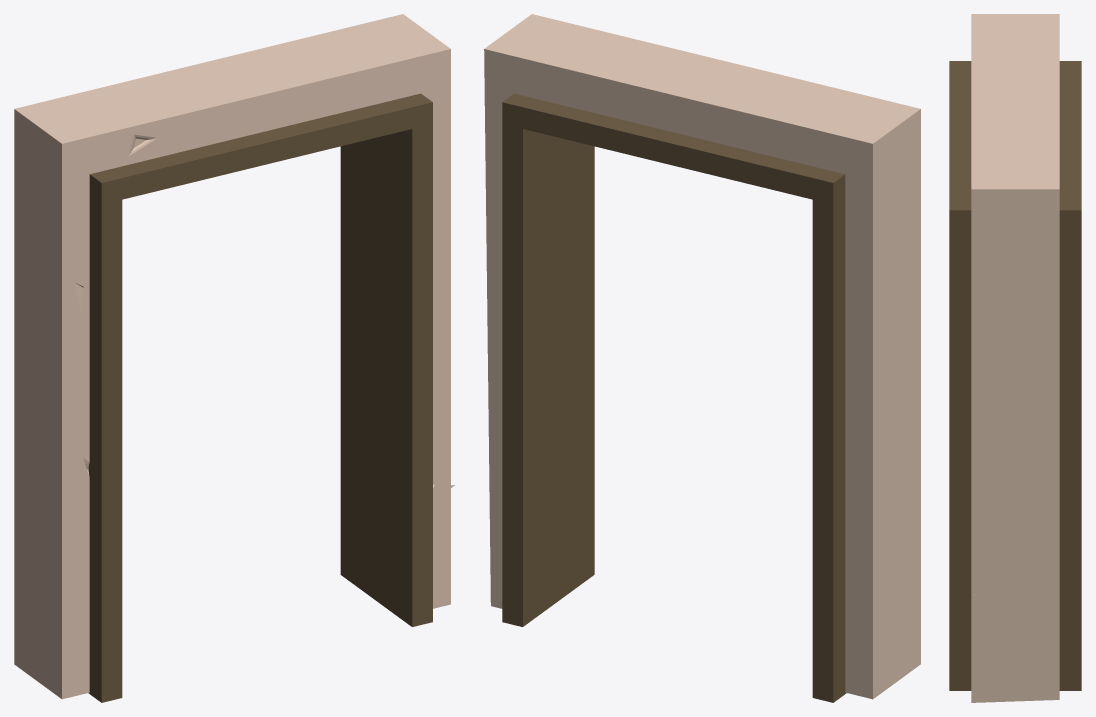
3 views of the same model, side by side, from view 1: azimuth 30°, elevation 25°; view 2: azimuth 150°, elevation 25°; view 3: azimuth 270°, elevation 25° (orthographic). The views are drawn at different scales.
Visible parts, largest first — view 1: Cube.001; view 2: Cube.001; view 3: Cube.001.
Part boxes in pixels (x1,y1,x2,y2): Cube.001: (14,14,454,702); Cube.001: (484,14,920,702); Cube.001: (949,14,1081,702).
Size of the model in its own units: 191 by 257 by 60.
